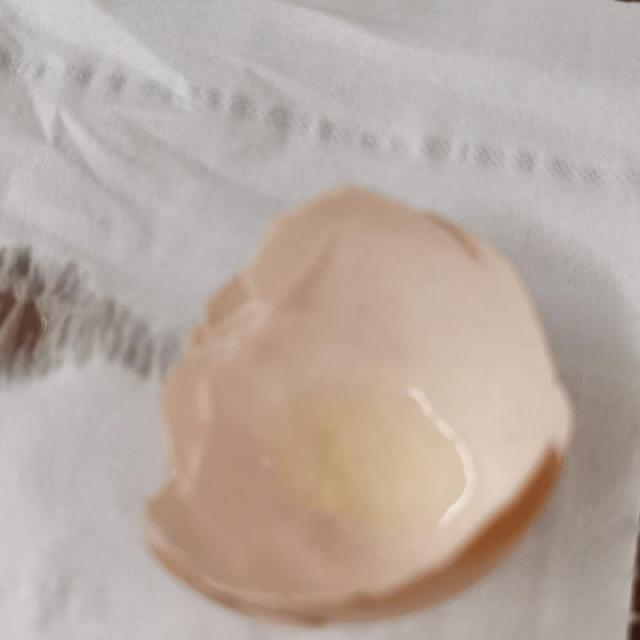egg shell: (134, 185, 577, 620)
